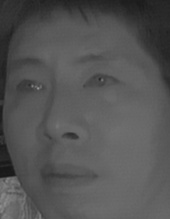eye: (80, 70, 123, 93), (11, 74, 50, 98)
mouth: (39, 156, 98, 191)
